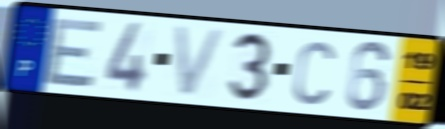3: (223, 29, 275, 105)
4: (104, 21, 149, 95)
6: (345, 39, 392, 115)
C: (290, 38, 337, 107)
E: (41, 16, 106, 89)
V: (171, 23, 229, 100)
